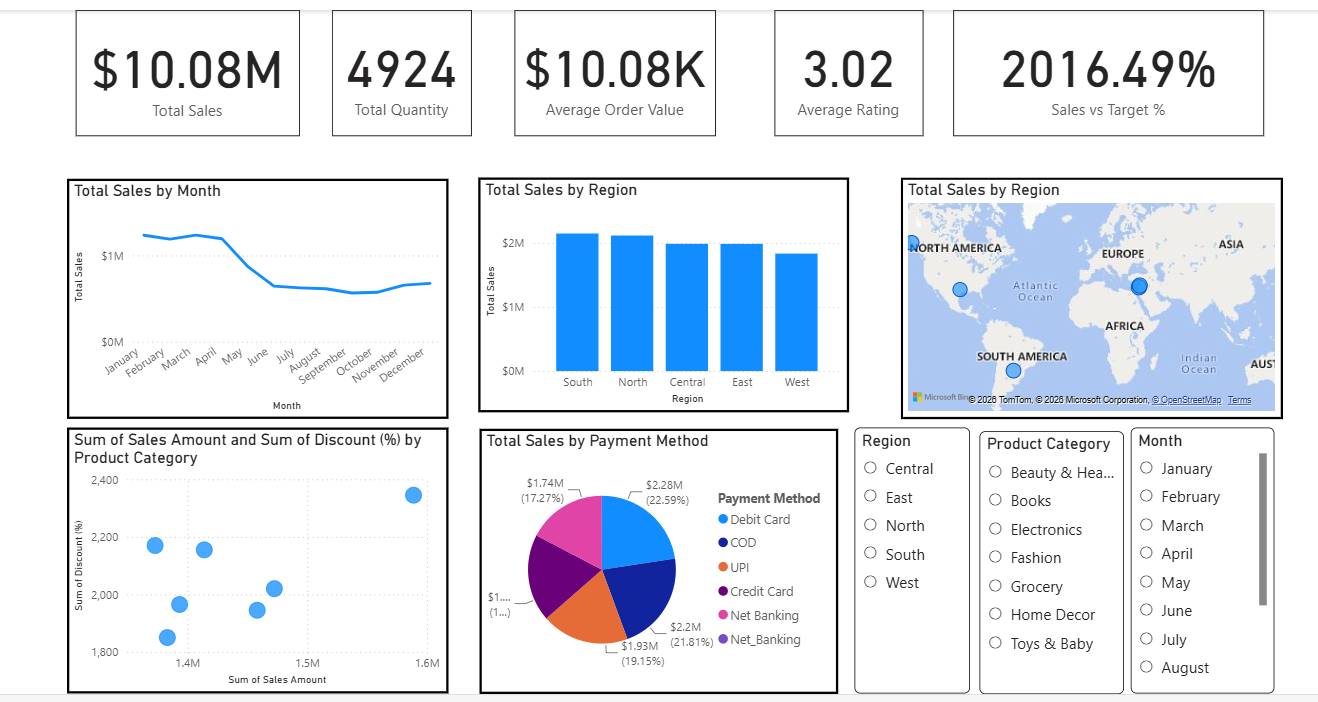

This screenshot's page, from the dashboard's own definition file:
{"tool":"powerbi","page":{"name":"sales overview","canvas":[1280,720],"ordinal":0},"visuals":[{"type":"card","fields":{"Values":["Sheet1.Total Sales"]},"box":[9.5,0,235.7,132.9],"z":0},{"type":"card","fields":{"Values":["Sheet1.Average Rating"]},"box":[745.2,0,156.6,132.9],"z":1000},{"type":"card","fields":{"Values":["Sheet1.Sales vs Target %"]},"box":[933.5,0,327.5,132.9],"z":2000},{"type":"card","fields":{"Values":["Sheet1.Total Quantity"]},"box":[278.5,0,147.1,132.9],"z":3000},{"type":"card","fields":{"Values":["Sheet1.Average Order Value"]},"box":[471.5,0,212,132.9],"z":4000},{"type":"lineChart","fields":{"Category":["Sheet1.Order Date.Variation.Date Hierarchy.Month"],"Y":["Sheet1.Total Sales"]},"box":[0,177.2,401.9,253.2],"z":5000},{"type":"clusteredColumnChart","fields":{"Category":["Sheet1.Region"],"Y":["Sheet1.Total Sales"]},"box":[432.7,176.5,390.6,247.4],"z":6000},{"type":"map","fields":{"Category":["Sheet1.Region"],"Size":["Sheet1.Total Sales"]},"box":[877.4,176.6,402.6,254.5],"z":7000},{"type":"scatterChart","fields":{"X":["Sum(Sheet1.Sales Amount)"],"Category":["Sheet1.Product Category"],"Y":["Sum(Sheet1.Discount (%))"]},"box":[0,440.1,401.7,279.9],"z":8000},{"type":"pieChart","fields":{"Category":["Sheet1.Payment Method"],"Y":["Sheet1.Total Sales"]},"box":[434.2,440.9,377.4,279.1],"z":9000},{"type":"listSlicer","fields":{"Values":["Sheet1.Region"]},"box":[829.3,440.1,121.8,279.9],"z":10000},{"type":"listSlicer","fields":{"Values":["Sheet1.Product Category"]},"box":[960.7,443.1,152.1,276.9],"z":11000},{"type":"listSlicer","fields":{"Values":["Sheet1.Order Date.Variation.Date Hierarchy.Month"]},"box":[1119.5,440.1,151.4,279.9],"z":12000}]}

Visuals, with their boxes in screenshot pixels (x1, y1, x2, y2):
card - Sheet1.Total Sales: {"x1": 68, "y1": 3, "x2": 295, "y2": 132}
card - Sheet1.Average Rating: {"x1": 777, "y1": 3, "x2": 927, "y2": 132}
card - Sheet1.Sales vs Target %: {"x1": 958, "y1": 3, "x2": 1274, "y2": 132}
card - Sheet1.Total Quantity: {"x1": 327, "y1": 3, "x2": 469, "y2": 132}
card - Sheet1.Average Order Value: {"x1": 513, "y1": 3, "x2": 717, "y2": 132}
lineChart - Sheet1.Order Date.Variation.Date Hierarchy.Month x Sheet1.Total Sales: {"x1": 58, "y1": 174, "x2": 446, "y2": 418}
clusteredColumnChart - Sheet1.Region x Sheet1.Total Sales: {"x1": 475, "y1": 174, "x2": 852, "y2": 412}
map - Sheet1.Region x Sheet1.Total Sales: {"x1": 904, "y1": 174, "x2": 1292, "y2": 419}
scatterChart - Sum(Sheet1.Sales Amount) x Sheet1.Product Category: {"x1": 58, "y1": 428, "x2": 445, "y2": 697}
pieChart - Sheet1.Payment Method x Sheet1.Total Sales: {"x1": 477, "y1": 428, "x2": 841, "y2": 697}
listSlicer - Sheet1.Region: {"x1": 858, "y1": 428, "x2": 975, "y2": 697}
listSlicer - Sheet1.Product Category: {"x1": 984, "y1": 430, "x2": 1131, "y2": 697}
listSlicer - Sheet1.Order Date.Variation.Date Hierarchy.Month: {"x1": 1137, "y1": 428, "x2": 1283, "y2": 697}
